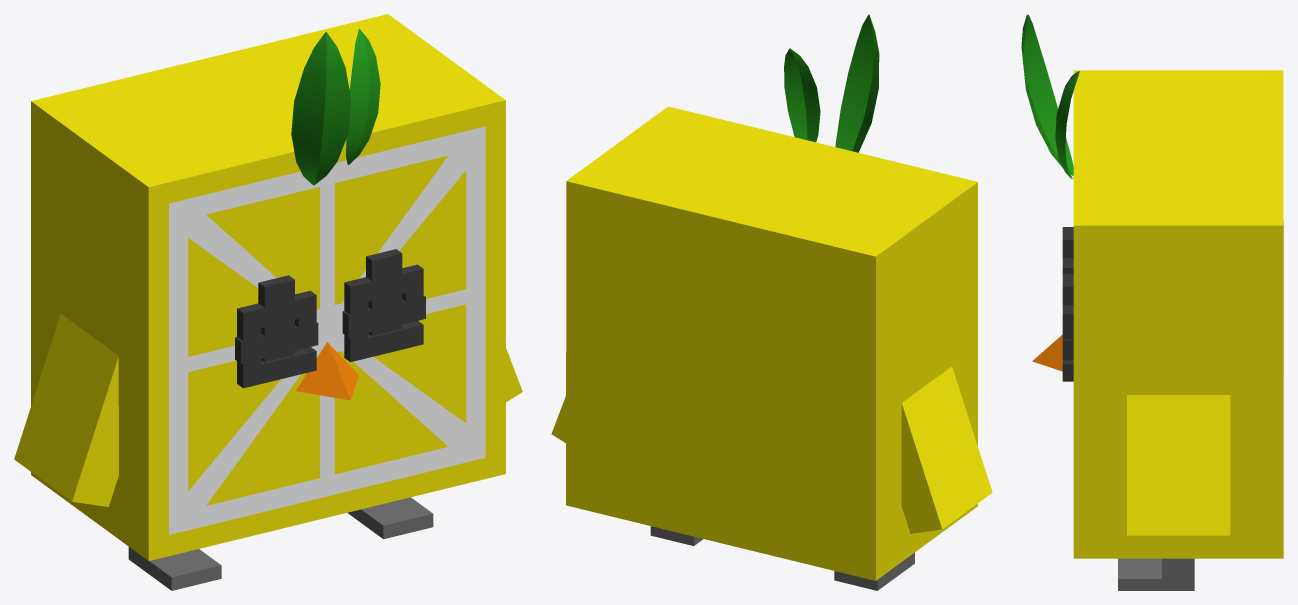
The picture shows the model from 3 angles, left to right: view 1: azimuth 30°, elevation 25°; view 2: azimuth 150°, elevation 25°; view 3: azimuth 270°, elevation 25°; orthographic projection. The views are drawn at different scales.
Visible parts, largest first — view 1: Ch_02, Ch_02_Wing_L, Ch_02_Feather, Ch_02_Eye_03_R, Ch_02_Eye_03_L, Ch_02_Leg_L, Ch_02_Leg_R; view 2: Ch_02, Ch_02_Wing_L, Ch_02_Feather, Ch_02_Leg_L; view 3: Ch_02, Ch_02_Wing_R, Ch_02_Feather, Ch_02_Leg_R, Ch_02_Eye_03_R.
Boxes of the visible parts, x1,y1,x2,y2 form: Ch_02: (31,14,505,560); Ch_02_Wing_L: (14,314,118,506); Ch_02_Feather: (291,28,380,185); Ch_02_Eye_03_R: (344,264,423,362); Ch_02_Eye_03_L: (237,290,316,388); Ch_02_Leg_L: (128,547,221,590); Ch_02_Leg_R: (347,497,433,539); Ch_02: (566,106,977,580); Ch_02_Wing_L: (901,366,992,533); Ch_02_Feather: (784,14,879,152); Ch_02_Leg_L: (834,552,914,590); Ch_02: (1032,70,1283,558); Ch_02_Wing_R: (1127,395,1230,535); Ch_02_Feather: (1021,14,1079,179); Ch_02_Leg_R: (1118,558,1194,590); Ch_02_Eye_03_R: (1062,305,1073,381).
Bounding box in the file's own units: 10.27 × 12.43 × 5.81.
